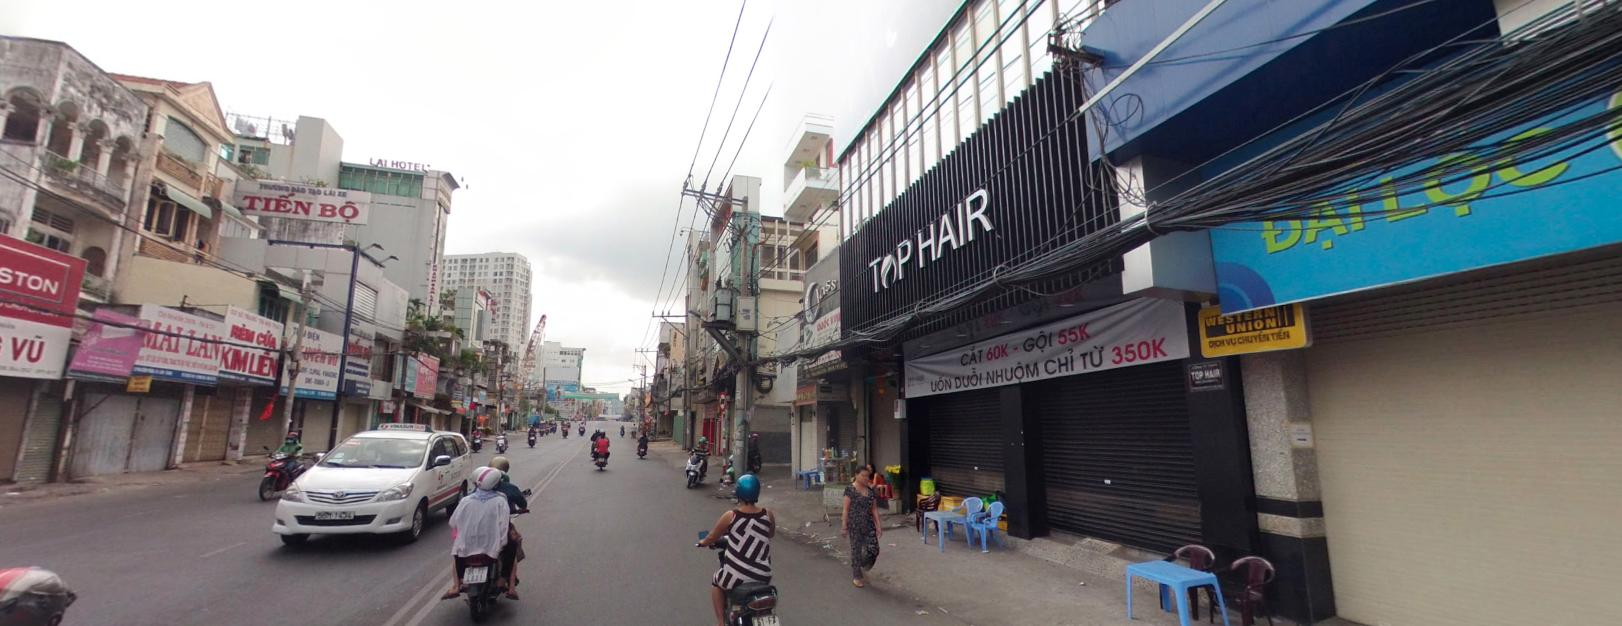Cam con lai: (718, 389, 725, 408)
